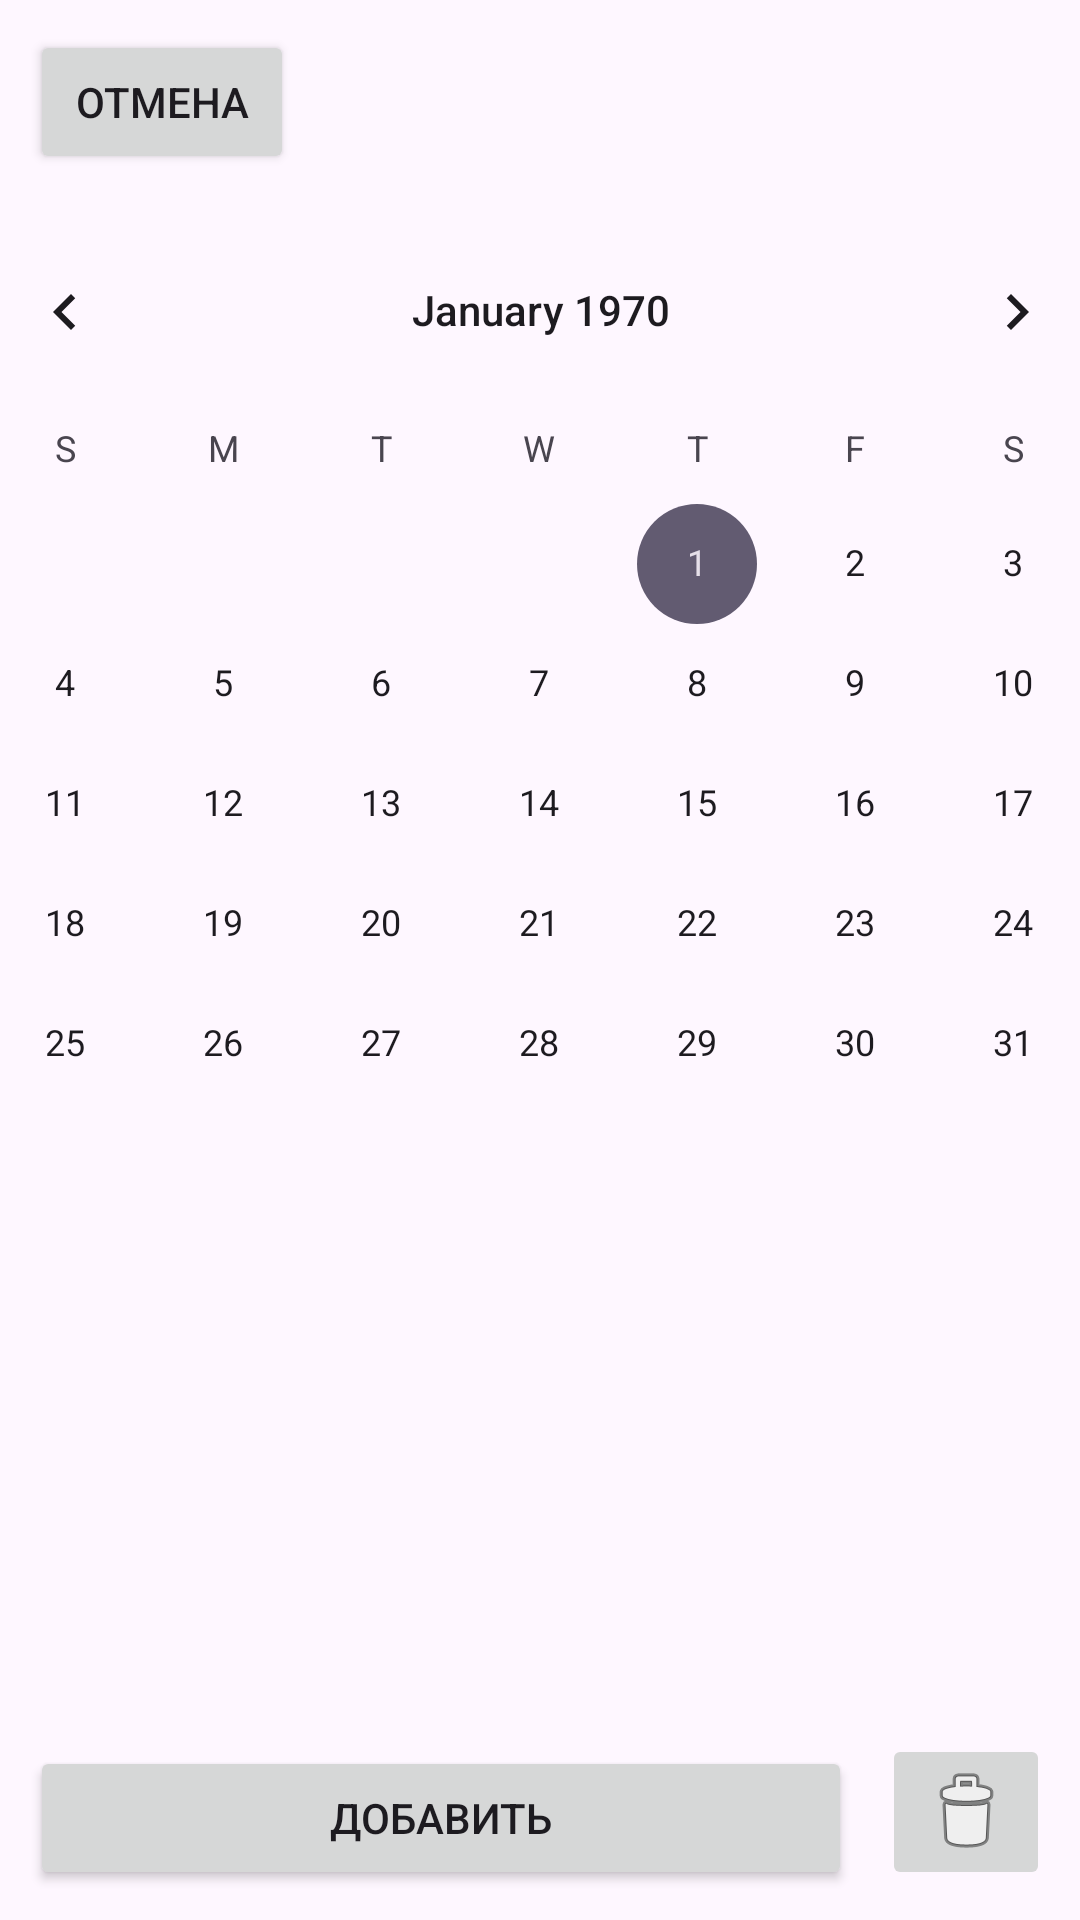

Icon bounding boxes for this 1080 × 1920 phone screenshot, format (x1, y1, x2, y2):
delete: (894, 1752, 1038, 1872)
